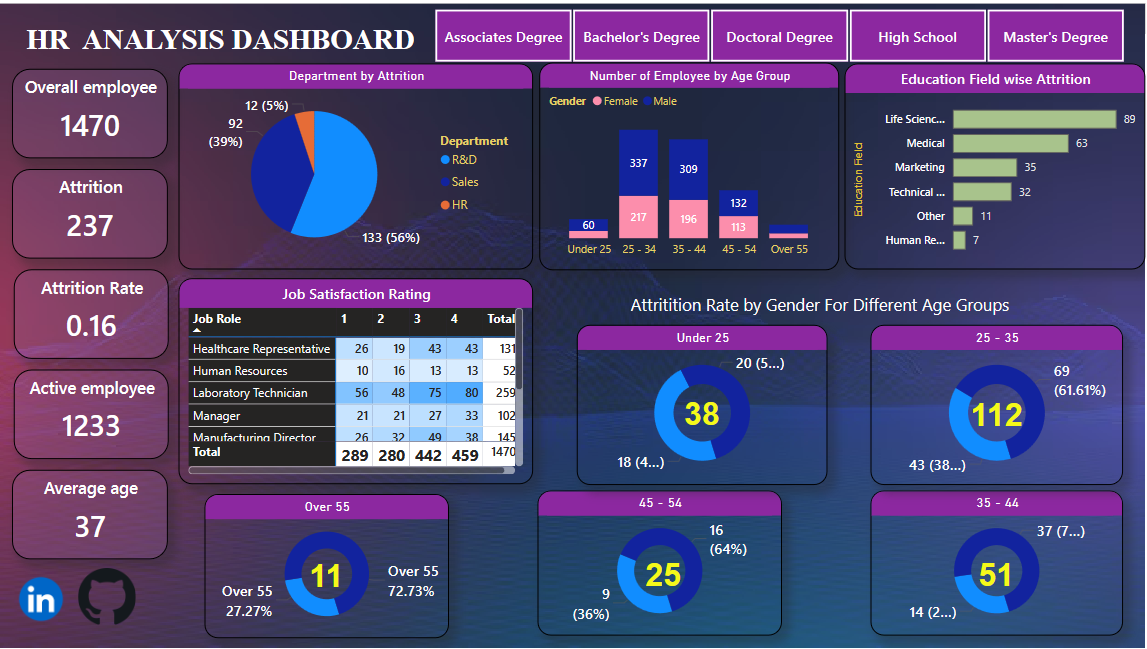

Layout of this report page (visuals, bound fields, positions):
{"tool":"powerbi","page":{"name":"Page 1","canvas":[1280,720],"ordinal":0},"visuals":[{"type":"card","title":"Overall employee","fields":{"Values":["Sum(HR data.Employee Count)"]},"box":[14.3,73.1,173.3,100],"z":0},{"type":"card","title":"Attrition","fields":{"Values":["Sum(HR data.Attition count)"]},"box":[14.3,185.2,173.3,100],"z":1000},{"type":"card","title":"Attrition Rate","fields":{"Values":["HR data.attrition rate"]},"box":[15.9,297.3,173.3,100],"z":2000},{"type":"card","title":"Active employee","fields":{"Values":["HR data.New employees"]},"box":[15.9,409.4,173.3,100],"z":3000},{"type":"card","title":"Average age","fields":{"Values":["Avg(HR data.Age)"]},"box":[14.3,521.4,173.2,100],"z":4000},{"type":"textbox","box":[25.4,17.5,453.2,66.8],"z":5000},{"type":"pieChart","title":"Department by Attrition","fields":{"Category":["HR data.Department"],"Y":["Sum(HR data.Attition count)"]},"box":[200.4,66.8,395.9,230.6],"z":6000},{"type":"columnChart","title":"Number of Employee by Age Group","fields":{"Category":["HR data.CF_age band"],"Y":["Sum(HR data.Employee Count)"],"Series":["HR data.Gender"]},"box":[602.5,66.1,335.7,232.1],"z":7000},{"type":"pivotTable","title":"Job Satisfaction Rating","fields":{"Rows":["HR data.Job Role"],"Columns":["HR data.Job Satisfaction"],"Values":["Sum(HR data.Employee Count)"]},"box":[200.4,306.9,395.9,230.6],"z":8000},{"type":"barChart","title":"Education Field wise Attrition","fields":{"Category":["HR data.Education Field"],"Y":["Sum(HR data.Attition count)"]},"box":[944.5,66.8,335.5,230.6],"z":9000},{"type":"donutChart","title":"35 - 44","fields":{"Category":["HR data.Gender"],"Y":["Sum(HR data.Attition count)"],"Series":["HR data.CF_age band"]},"box":[973.2,543.8,281.5,162.2],"z":10000},{"type":"textbox","box":[699.7,318,472.3,38.2],"z":11000},{"type":"donutChart","title":"45 - 54","fields":{"Category":["HR data.Gender"],"Y":["Sum(HR data.Attition count)"],"Series":["HR data.CF_age band"]},"box":[600.7,543.8,273.5,162.2],"z":12000},{"type":"donutChart","title":"25 - 35","fields":{"Category":["HR data.Gender"],"Y":["Sum(HR data.Attition count)"],"Series":["HR data.CF_age band"]},"box":[973.2,358.9,282.1,178.6],"z":13000},{"type":"donutChart","title":"Over 55","fields":{"Category":["HR data.Gender"],"Y":["Sum(HR data.Attition count)"],"Series":["HR data.CF_age band"]},"box":[228.6,548.2,273.2,160.7],"z":14000},{"type":"donutChart","title":"Under 25","fields":{"Category":["HR data.Gender"],"Y":["Sum(HR data.Attition count)"],"Series":["HR data.CF_age band"]},"box":[644.6,358.9,280.4,178.6],"z":15000},{"type":"slicer","fields":{"Values":["HR data.Education"]},"box":[461.1,0,818.9,71.6],"z":16000},{"type":"advanceCardE03760C5AB684758B56AA29F9E6C257B","fields":{"mainMeasure":["Sum(HR data.Attition count)"]},"box":[741.1,423.2,87.5,71.4],"z":17000},{"type":"advanceCardE03760C5AB684758B56AA29F9E6C257B","fields":{"mainMeasure":["Sum(HR data.Attition count)"]},"box":[1026.8,557.1,173.2,162.5],"z":18000},{"type":"advanceCardE03760C5AB684758B56AA29F9E6C257B","fields":{"mainMeasure":["Sum(HR data.Attition count)"]},"box":[653.6,557.1,175,162.5],"z":19000},{"type":"advanceCardE03760C5AB684758B56AA29F9E6C257B","fields":{"mainMeasure":["Sum(HR data.Attition count)"]},"box":[1071.4,423.2,85.7,73.2],"z":20000},{"type":"image","box":[14.3,619.6,65,90],"z":21000},{"type":"image","box":[87.5,625,64.3,75],"z":22000},{"type":"advanceCardE03760C5AB684758B56AA29F9E6C257B","fields":{"mainMeasure":["Sum(HR data.Attition count)"]},"box":[300.9,587.8,128.3,102.6],"z":23000}]}

Visuals, with their boxes in screenshot pixels (x1, y1, x2, y2), scaled from the page's 1280x720 canvas onto the 1147x649 screenshot:
"Overall employee" card: left=13, top=66, right=168, bottom=156
"Attrition" card: left=13, top=167, right=168, bottom=257
"Attrition Rate" card: left=14, top=268, right=170, bottom=358
"Active employee" card: left=14, top=369, right=170, bottom=459
"Average age" card: left=13, top=470, right=168, bottom=560
textbox: left=23, top=16, right=429, bottom=76
"Department by Attrition" pieChart: left=180, top=60, right=534, bottom=268
"Number of Employee by Age Group" columnChart: left=540, top=60, right=841, bottom=269
"Job Satisfaction Rating" pivotTable: left=180, top=277, right=534, bottom=484
"Education Field wise Attrition" barChart: left=846, top=60, right=1146, bottom=268
"35 - 44" donutChart: left=872, top=490, right=1124, bottom=636
textbox: left=627, top=287, right=1050, bottom=321
"45 - 54" donutChart: left=538, top=490, right=783, bottom=636
"25 - 35" donutChart: left=872, top=324, right=1125, bottom=484
"Over 55" donutChart: left=205, top=494, right=450, bottom=639
"Under 25" donutChart: left=578, top=324, right=829, bottom=484
slicer - HR data.Education: left=413, top=0, right=1146, bottom=65
advanceCardE03760C5AB684758B56AA29F9E6C257B - Sum(HR data.Attition count): left=664, top=381, right=743, bottom=446
advanceCardE03760C5AB684758B56AA29F9E6C257B - Sum(HR data.Attition count): left=920, top=502, right=1075, bottom=648
advanceCardE03760C5AB684758B56AA29F9E6C257B - Sum(HR data.Attition count): left=586, top=502, right=743, bottom=648
advanceCardE03760C5AB684758B56AA29F9E6C257B - Sum(HR data.Attition count): left=960, top=381, right=1037, bottom=447
image: left=13, top=559, right=71, bottom=640
image: left=78, top=563, right=136, bottom=631
advanceCardE03760C5AB684758B56AA29F9E6C257B - Sum(HR data.Attition count): left=270, top=530, right=385, bottom=622
